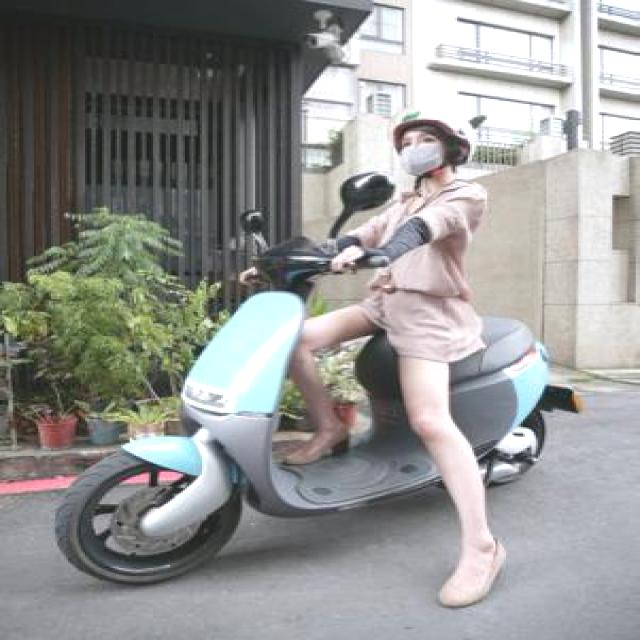face_mask: (396, 131, 448, 173)
hand_noglove: (325, 246, 364, 274)
head_helmet: (388, 102, 473, 142)
person: (321, 107, 551, 598)
shoes: (426, 531, 512, 611), (278, 422, 356, 468)
